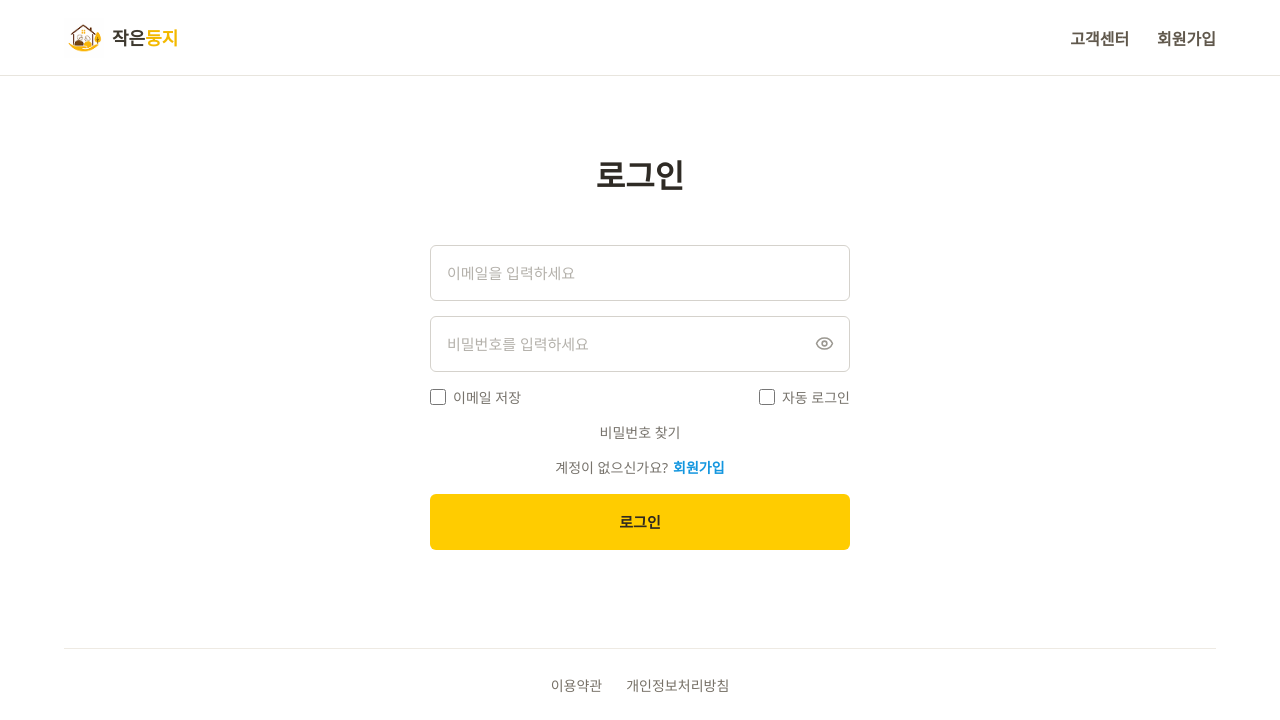
Test case: EmailLoginView › offers a verification email resend only for a pending account
Step 1. Type "pending@example.com" into the field named "email" → (640, 273), box [430,245,850,301]
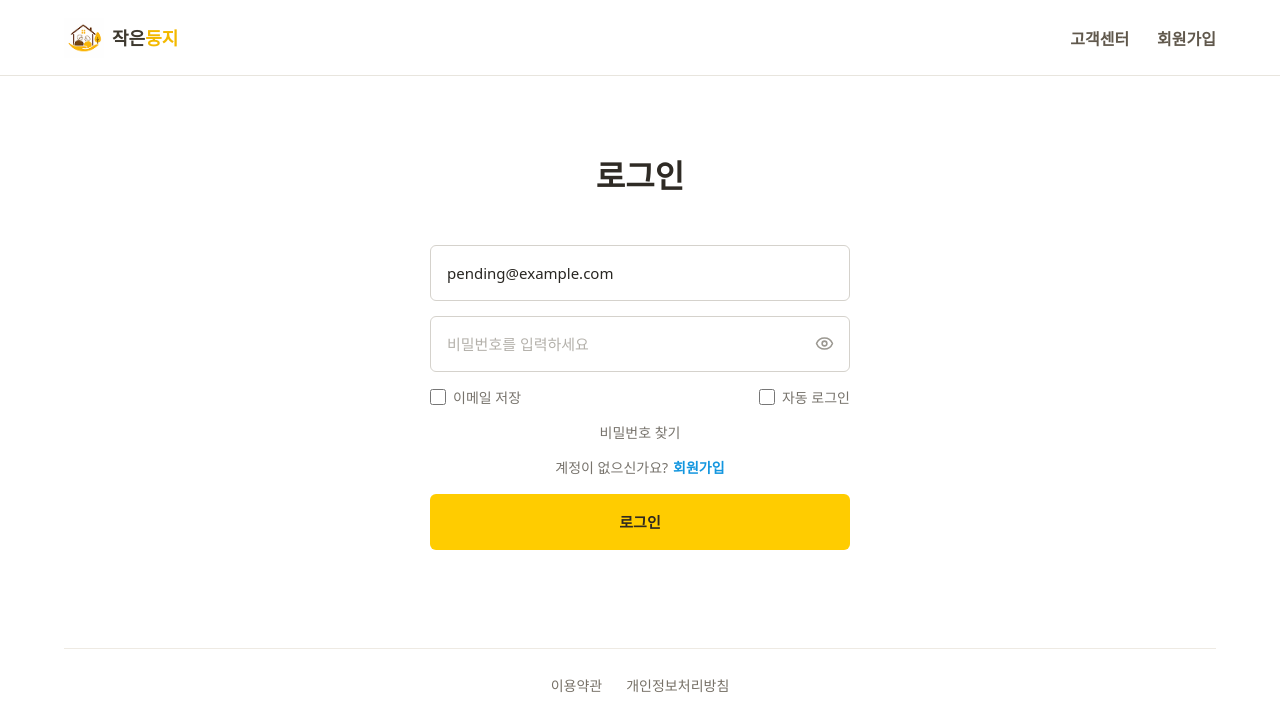
Step 2. Type "Secret!23" into the password field named "password" → (640, 344), box [430,316,850,372]
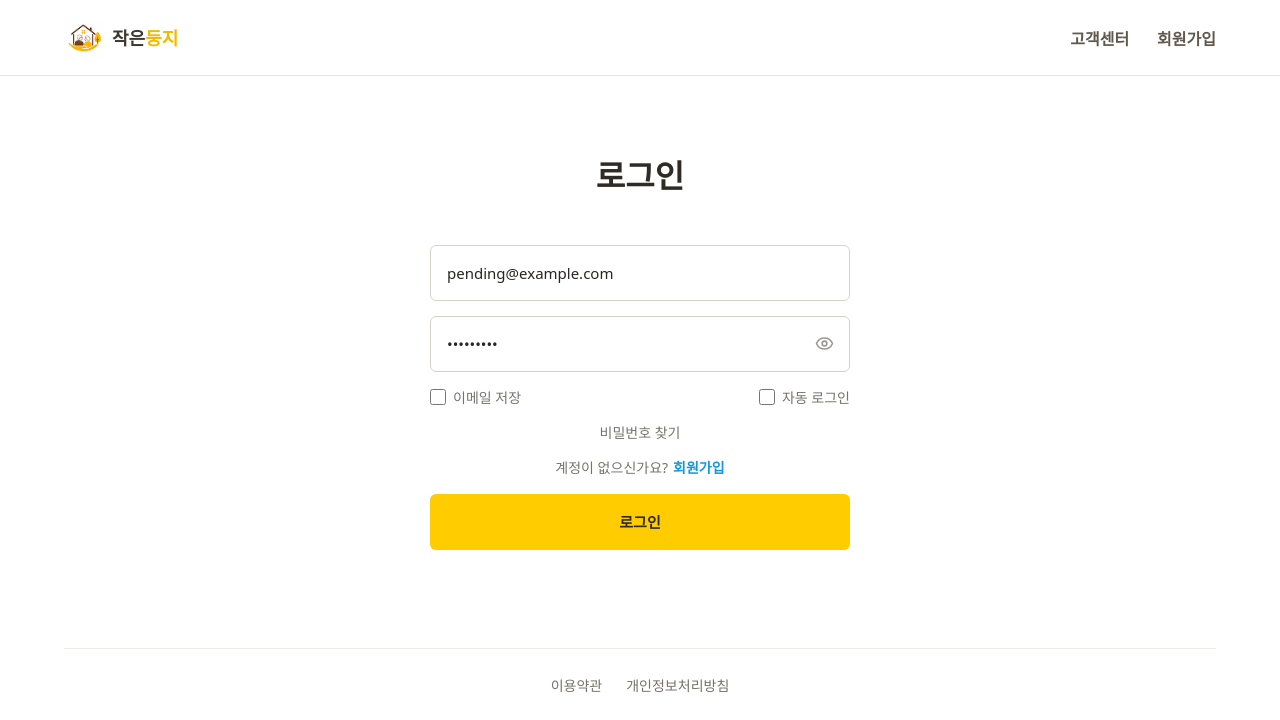
Step 3. Submit the form, box [430,245,850,550]
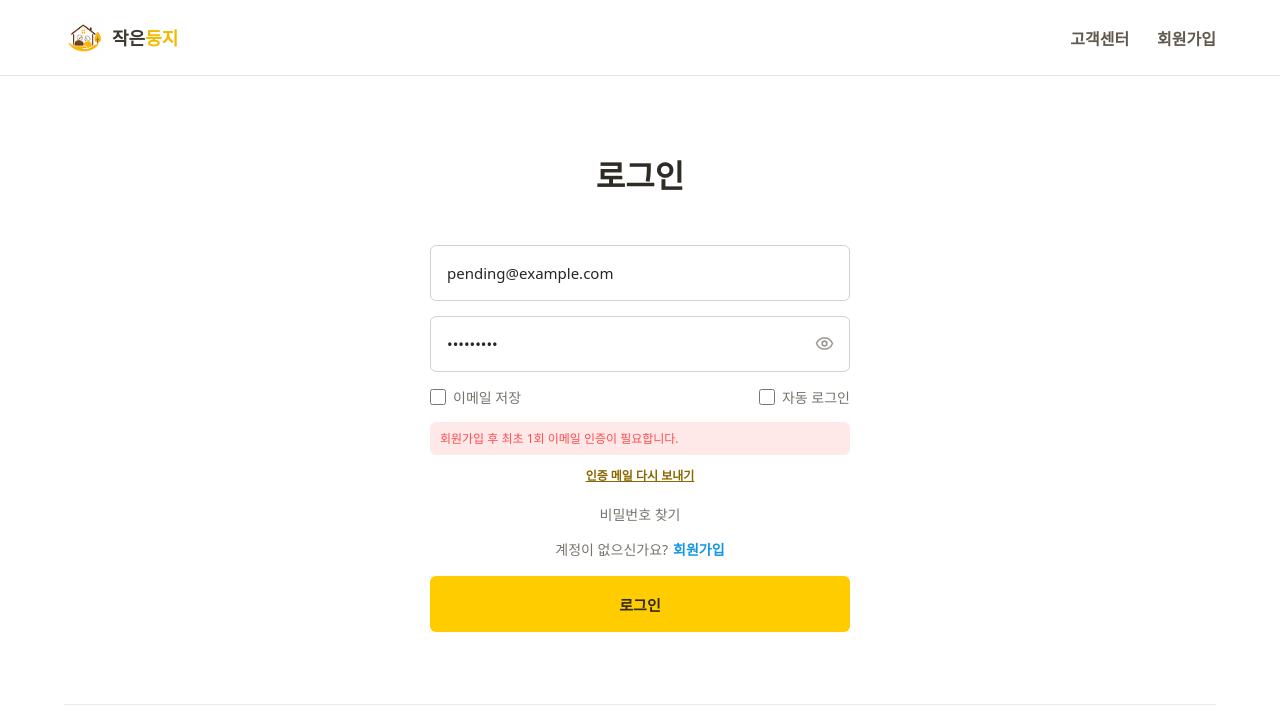
Step 4. Click the button "인증 메일 다시 보내기" → (640, 475), box [584,461,696,489]
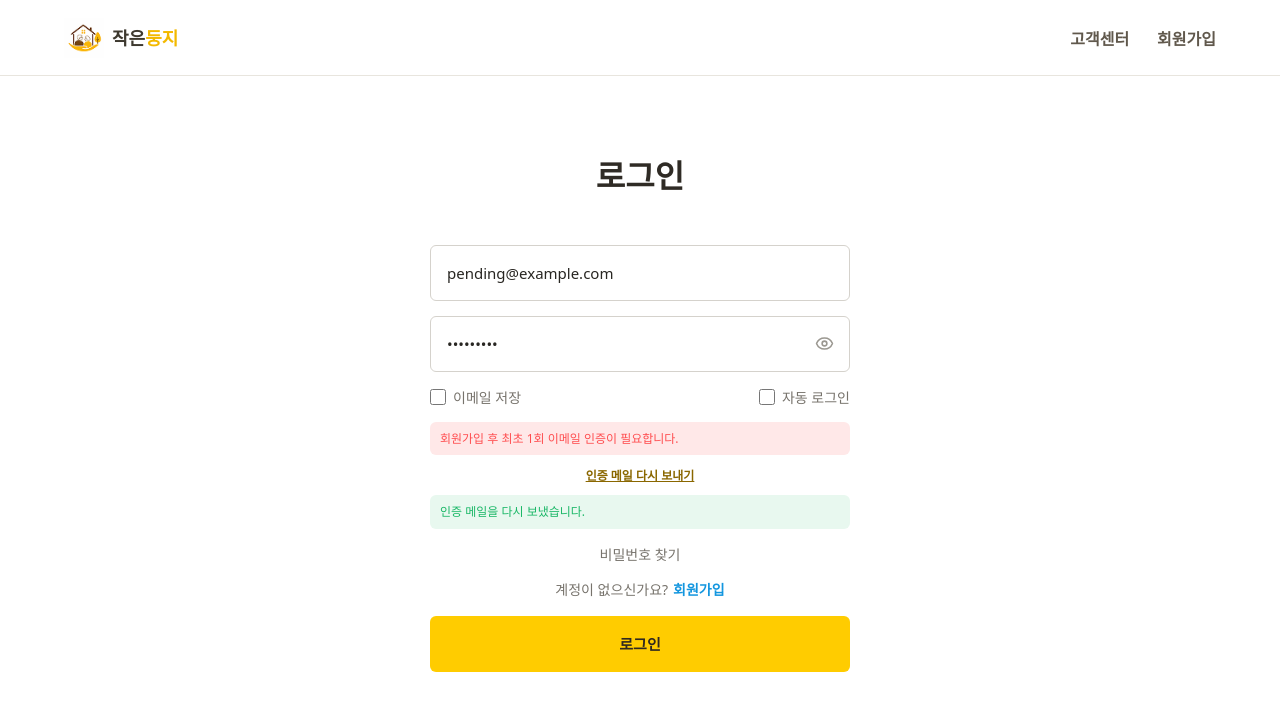
Result: the text "인증 메일을 다시 보냈습니다." is shown at [430,495,850,529]
